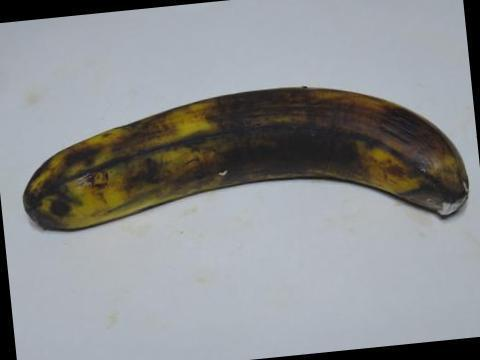overripe: (11, 63, 479, 230)
